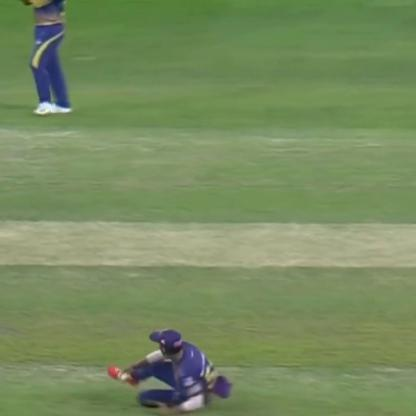ball: (116, 367, 134, 384)
